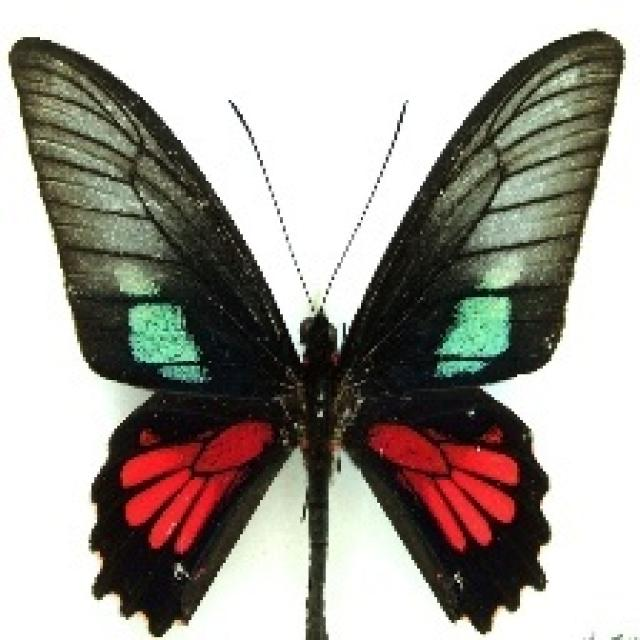butterfly: (6, 23, 626, 637)
